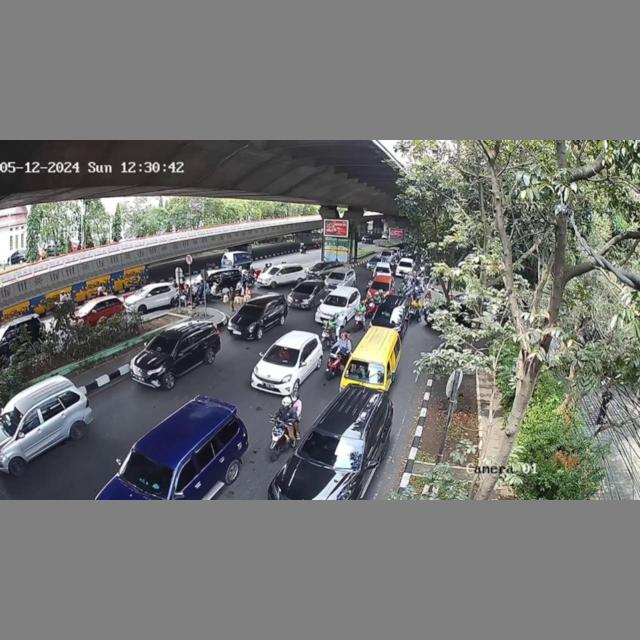windshield: (119, 450, 173, 498), (299, 429, 364, 466), (265, 343, 300, 368), (144, 331, 178, 355), (373, 304, 405, 324), (238, 305, 265, 317)
